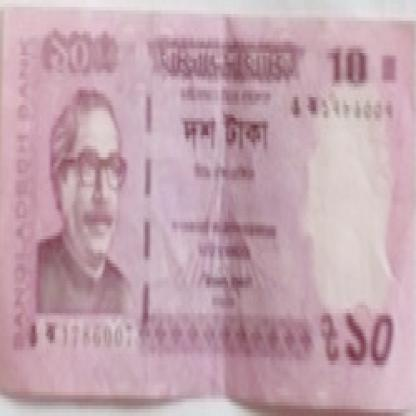Ten Taka: (342, 302, 398, 374), (43, 24, 93, 80), (326, 38, 370, 90)
